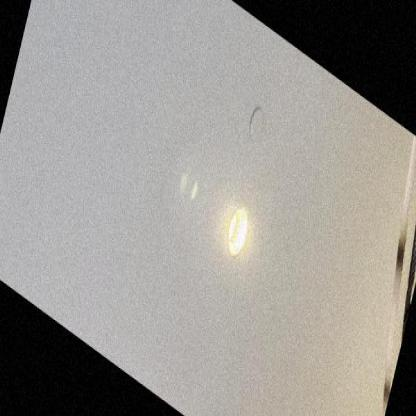light_on: (213, 184, 263, 288)
